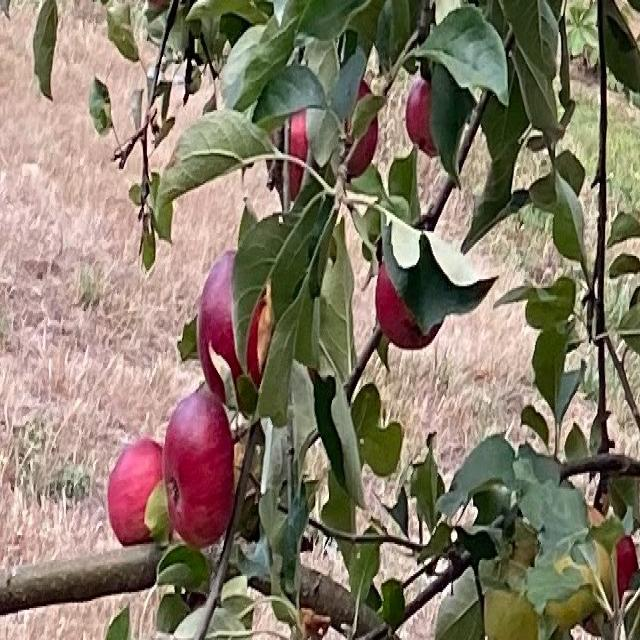Apples: (198, 252, 269, 400), (166, 395, 234, 542), (108, 441, 170, 547), (375, 263, 443, 349), (582, 535, 639, 635), (347, 82, 377, 178), (407, 82, 439, 154), (284, 110, 308, 201)
